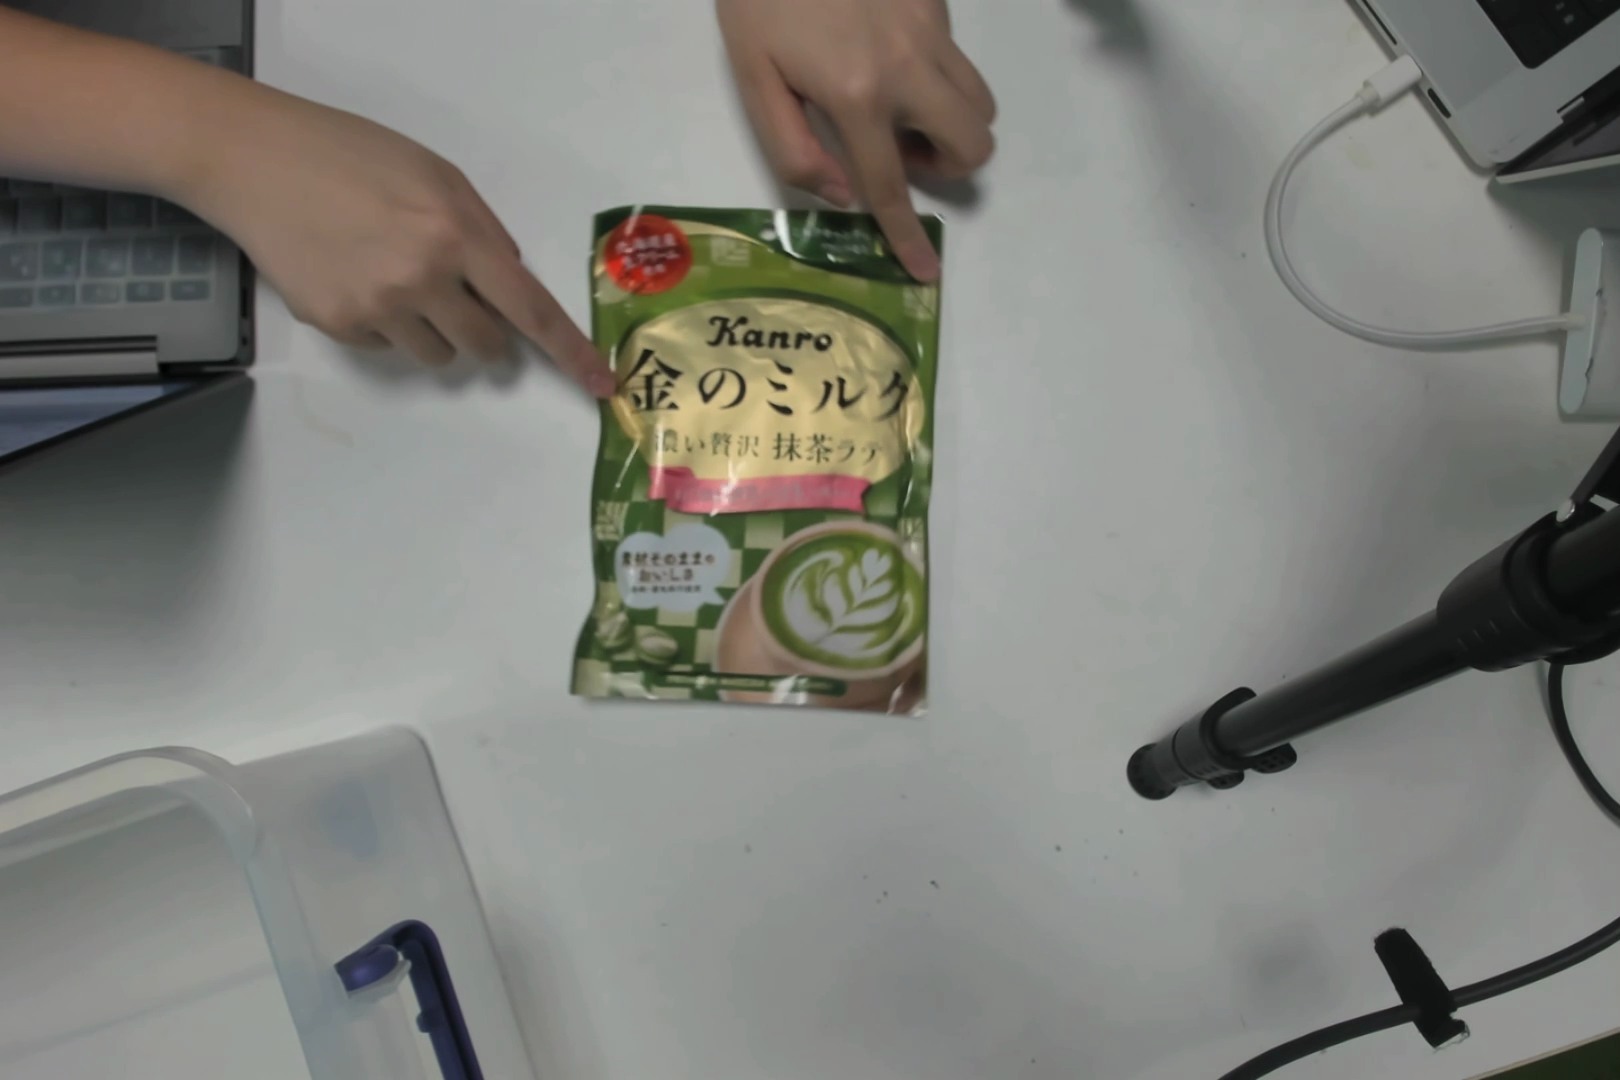SweetsChocolatesOthers_1-99g_NonHalal_NonHealthy: (589, 212, 947, 717)
